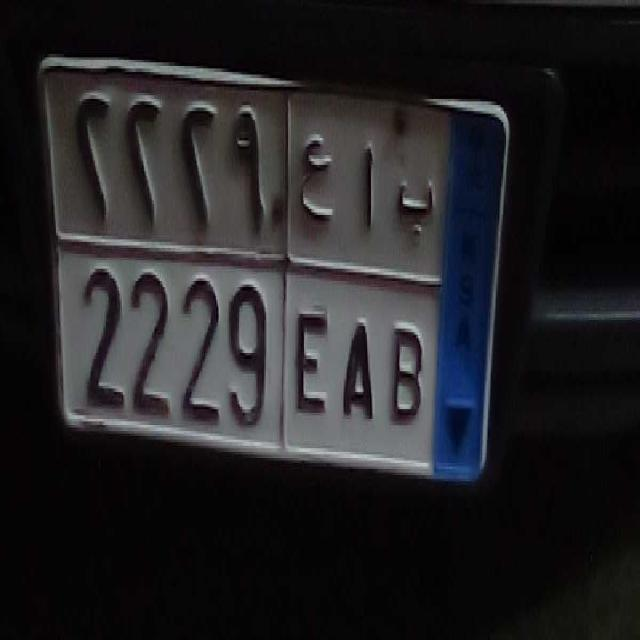license_plate: (63, 238, 434, 460)
